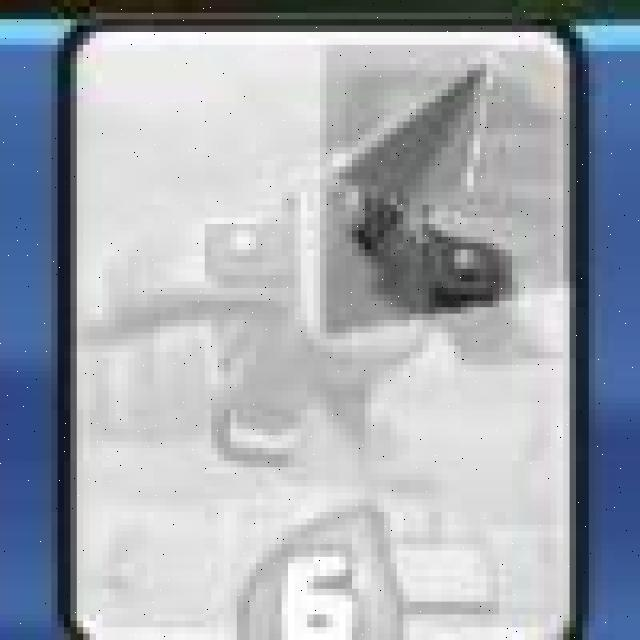X_Bow: (62, 21, 589, 640)
